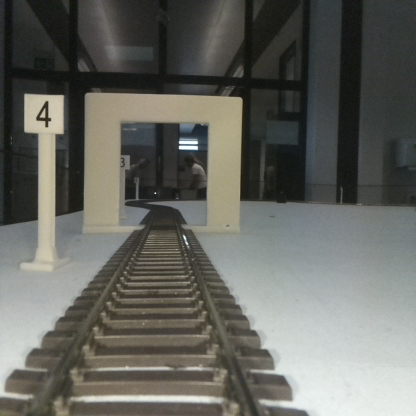white-info-4: (25, 96, 63, 268)
